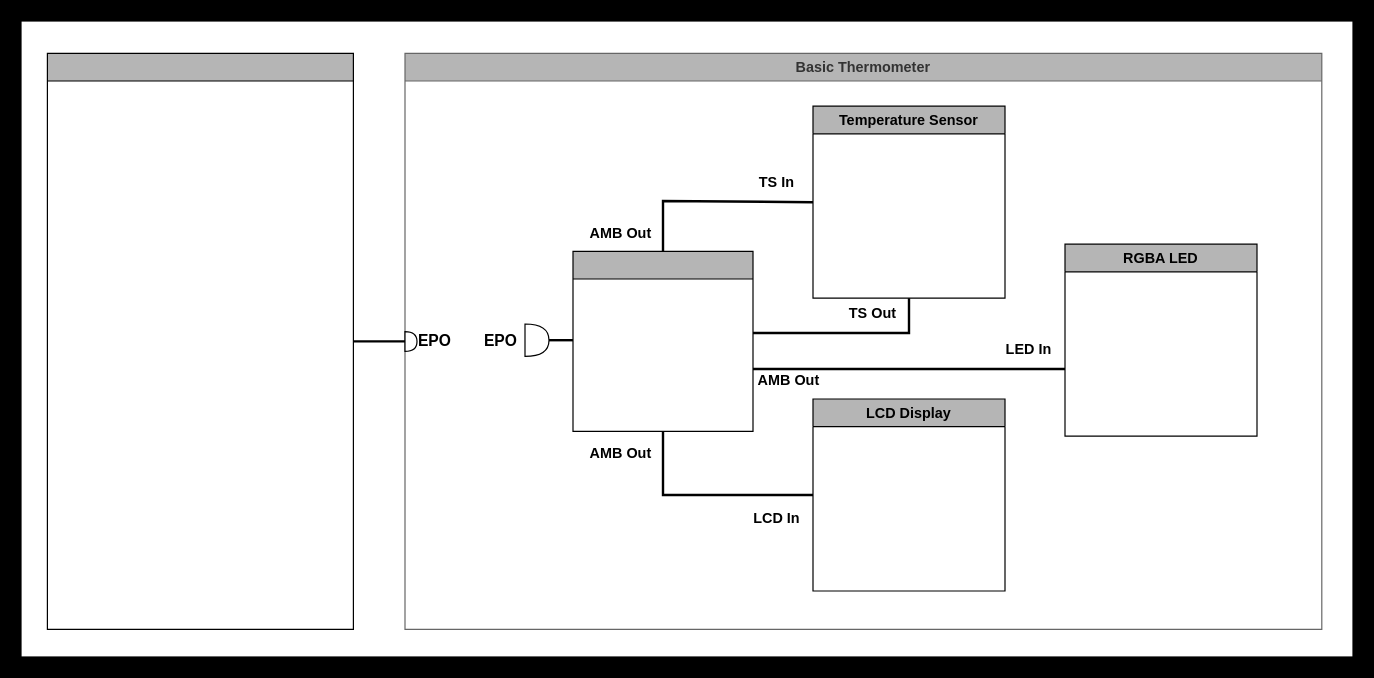
The diagram is 1374 pixels wide and 678 high, and some of its shapes have lost their labels. Each missing label, with the box of its shape:
Arduino Micro Board: (572, 250, 753, 431)
Electric Power Outlet: (46, 52, 353, 629)
